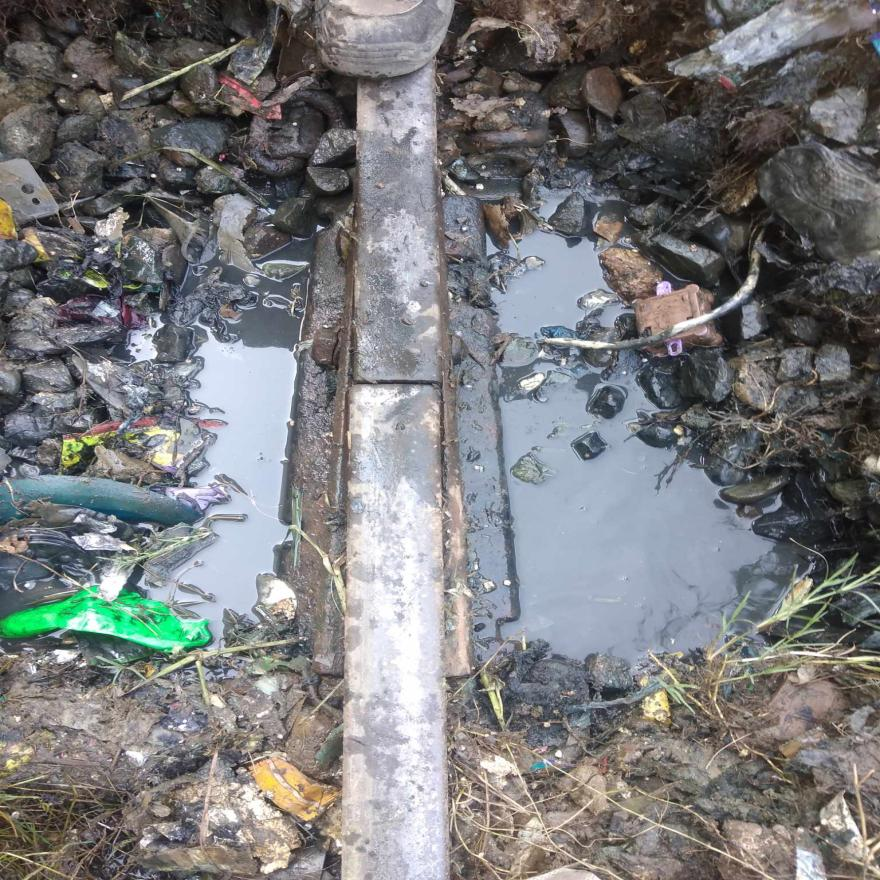railway-gap: (340, 337, 463, 430)
